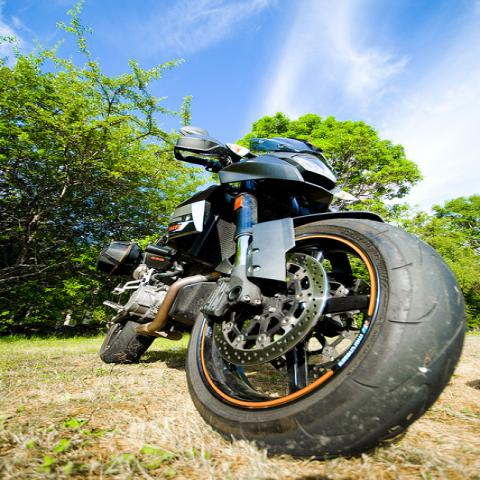motorcycle: (93, 137, 463, 462)
